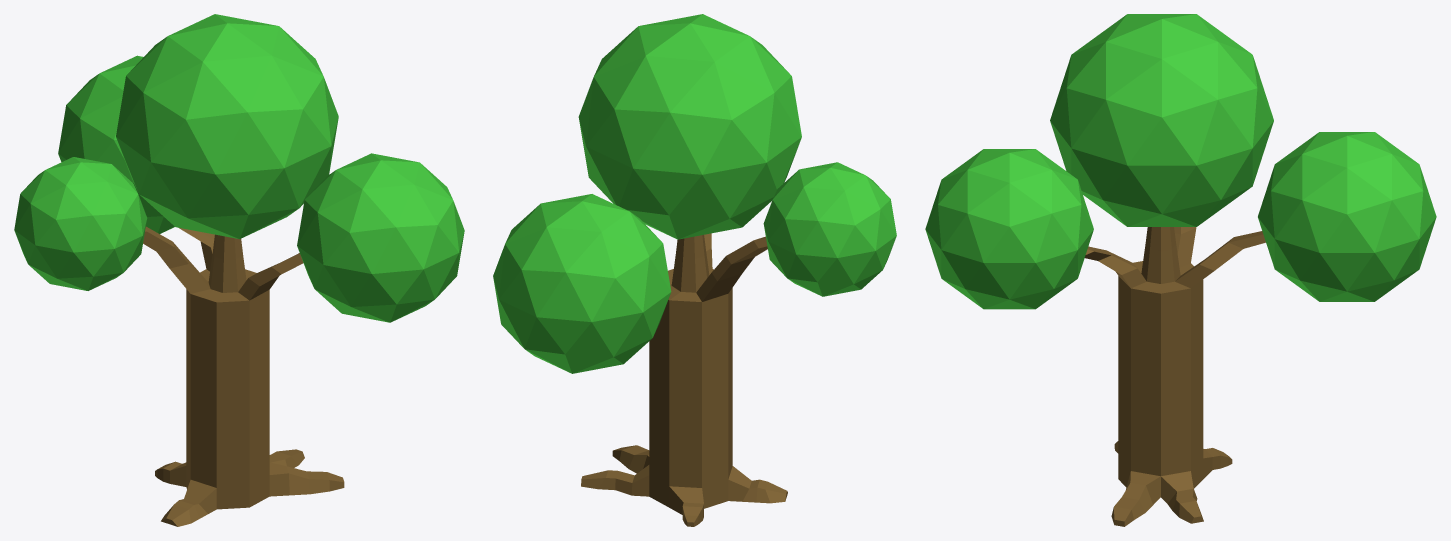
File: tree.glb
3 views of the same model, side by side, from view 1: azimuth 30°, elevation 25°; view 2: azimuth 150°, elevation 25°; view 3: azimuth 270°, elevation 25° (orthographic).
Visible parts, largest first — view 1: Icosphere.002, Trunk, Icosphere, Icosphere.003, Icosphere.001; view 2: Icosphere.002, Trunk, Icosphere.001, Icosphere.003; view 3: Icosphere.002, Trunk, Icosphere.001, Icosphere.
Part boxes in pixels (box(x1,y1,x2,y2)): Icosphere.002: box(116, 14, 338, 239); Trunk: box(143, 226, 344, 526); Icosphere: box(297, 153, 464, 322); Icosphere.003: box(14, 157, 147, 290); Icosphere.001: box(58, 55, 174, 233); Icosphere.002: box(578, 14, 801, 239); Trunk: box(581, 233, 787, 526); Icosphere.001: box(493, 194, 671, 373); Icosphere.003: box(763, 162, 896, 296); Icosphere.002: box(1050, 14, 1273, 226); Trunk: box(1084, 227, 1265, 526); Icosphere.001: box(1258, 132, 1436, 301); Icosphere: box(925, 149, 1093, 309).
Bounding box in the file's own units: 3.05 × 3.96 × 3.97.
